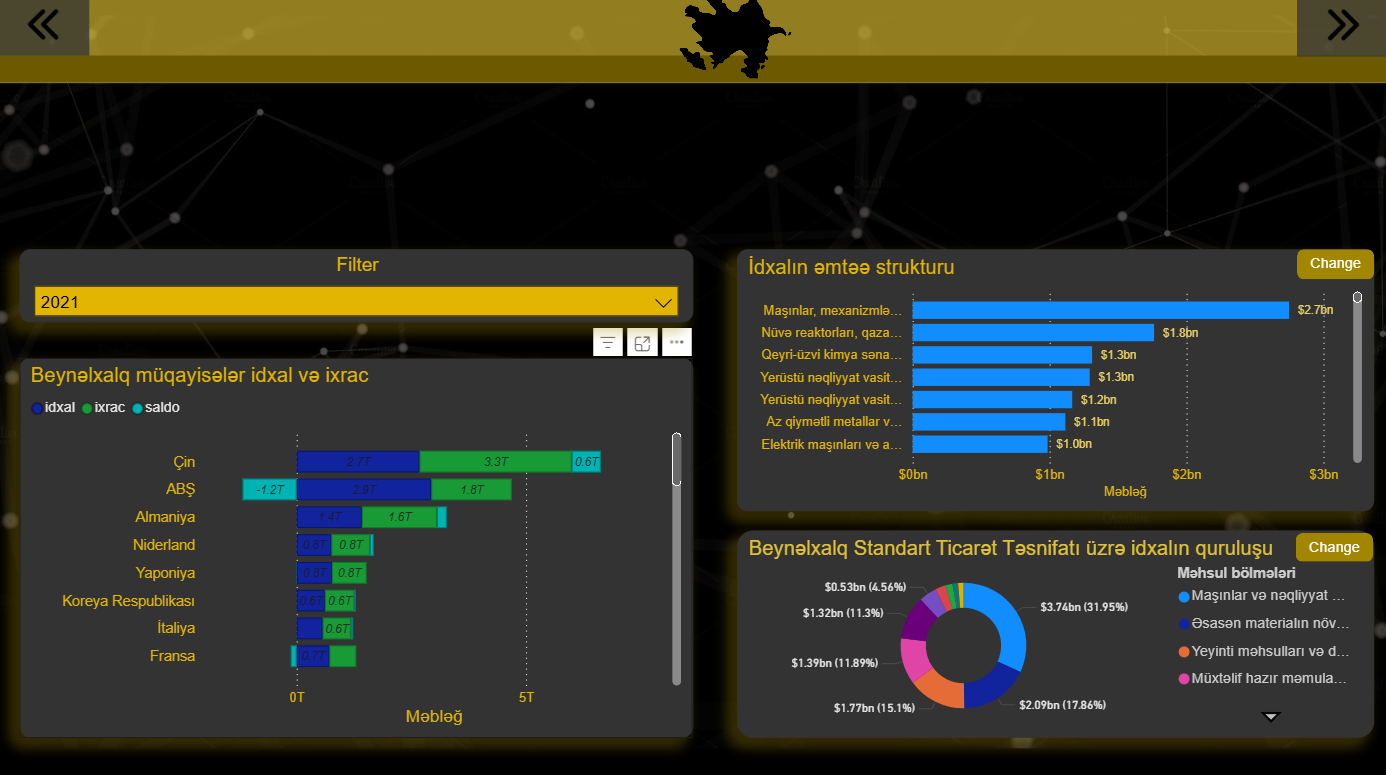

Layout of this report page (visuals, bound fields, positions):
{"tool":"powerbi","page":{"name":"Ümumi azaliz","canvas":[1280,720],"ordinal":2},"visuals":[{"type":"barChart","title":"Beynəlxalq müqayisələr idxal və ixrac","fields":{"Category":["Beynəlxalq müqayisələr idxal və ixrac.Ölkələr"],"Series":["Beynəlxalq müqayisələr idxal və ixrac.Növ"],"Y":["Sum(Beynəlxalq müqayisələr idxal və ixrac.Məbləğ)"]},"box":[20.5,335.6,619.5,348.9],"z":0},{"type":"slicer","title":"Filter","fields":{"Values":["Beynəlxalq müqayisələr idxal və ixrac.İllər","Beynəlxalq müqayisələr idxal və ixrac.Növ"]},"box":[20.5,235.8,619.5,67.4],"z":1000},{"type":"shape","box":[0,0,1280,82.9],"z":2000},{"type":"shape","box":[0,57.8,1279.7,24.6],"z":3000},{"type":"image","box":[0,0,85,57.4],"z":4000},{"type":"image","box":[1194.1,0,85.6,58.3],"z":5000},{"type":"image","box":[623.2,0,111.9,83],"z":6000},{"type":"donutChart","title":"Beynəlxalq Standart Ticarət Təsnifatı üzrə idxalın quruluşu","fields":{"Y":["Sum(Beynəlxalq Standart Ticarət Təsnifatı üzrə idxalın quruluşu.Məbləğ)"],"Category":["Beynəlxalq Standart Ticarət Təsnifatı üzrə idxalın quruluşu.Məhsul bölmələri"]},"box":[679.7,494.4,585.9,190.1],"z":8000},{"type":"shape","box":[1193.6,496.4,71.1,26.5],"z":9000},{"type":"barChart","title":"İdxalın əmtəə strukturu","fields":{"Category":["İdxalın əmtəə strukturu.Mal qrupları"],"Y":["Sum(İdxalın əmtəə strukturu.Məbləğ)"]},"box":[679.7,235.8,585.9,240.6],"z":11000},{"type":"shape","box":[1194.6,235.8,71,27.7],"z":13000}]}

Visuals, with their boxes in screenshot pixels (x1, y1, x2, y2), scaled from the page's 1280x720 canvas onto the 1386x775 screenshot:
"Beynəlxalq müqayisələr idxal və ixrac" barChart: bbox(22, 361, 693, 737)
"Filter" slicer: bbox(22, 254, 693, 326)
shape: bbox(0, 0, 1385, 89)
shape: bbox(0, 62, 1385, 89)
image: bbox(0, 0, 92, 62)
image: bbox(1293, 0, 1385, 63)
image: bbox(675, 0, 796, 89)
"Beynəlxalq Standart Ticarət Təsnifatı üzrə idxalın quruluşu" donutChart: bbox(736, 532, 1370, 737)
shape: bbox(1292, 534, 1369, 563)
"İdxalın əmtəə strukturu" barChart: bbox(736, 254, 1370, 513)
shape: bbox(1294, 254, 1370, 284)
